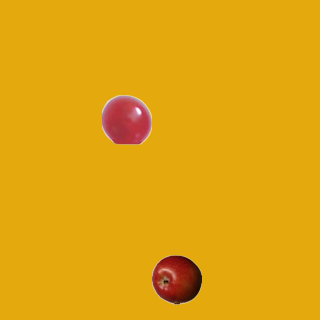Apple Braeburn: (151, 254, 201, 304)
Redcurrant: (101, 94, 151, 144)
